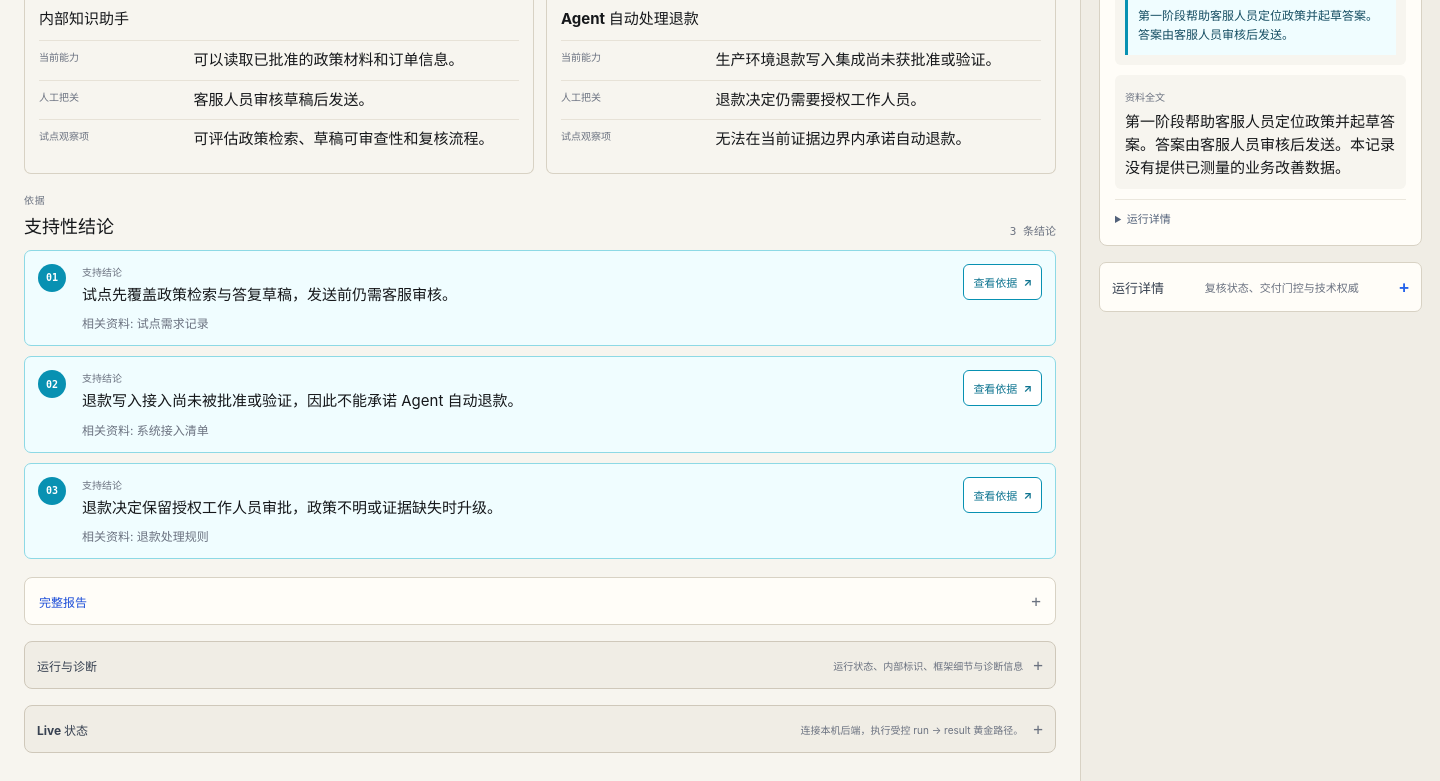
Test: Decision Research Agent demo console › renders the six operator screens inside the collapsed technical console
The image size is (1440, 781).
(page scrolled)
Click the text "运行与诊断" at (67, 666), box top-left (37, 657), bottom-right (97, 674)
(page scrolled)
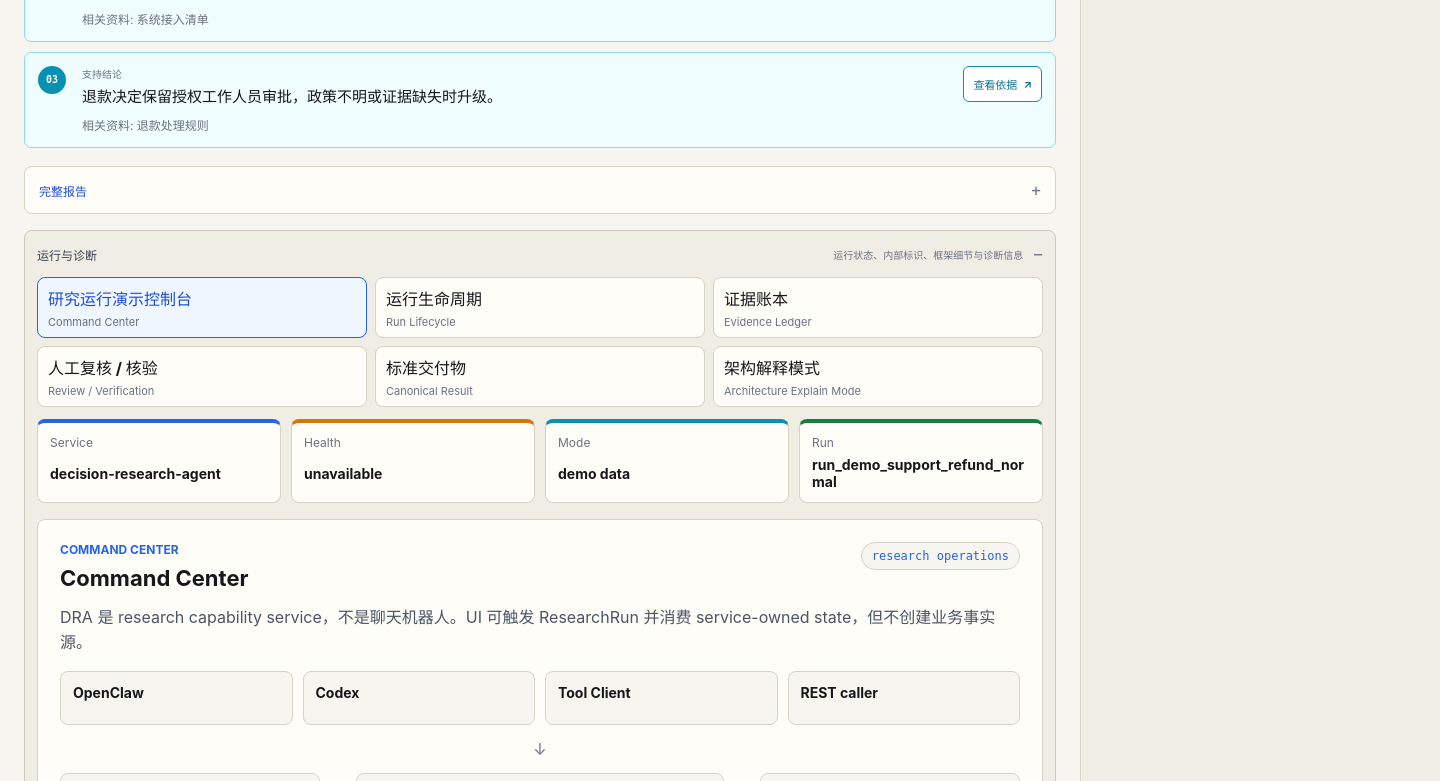
Expected: the button "研究运行演示控制台 Command Center" is shown, top-left (37, 278), bottom-right (367, 338)
Expected: the button "运行生命周期 Run Lifecycle" is shown, top-left (375, 278), bottom-right (705, 338)
Expected: the button "证据账本 Evidence Ledger" is shown, top-left (713, 278), bottom-right (1043, 338)
